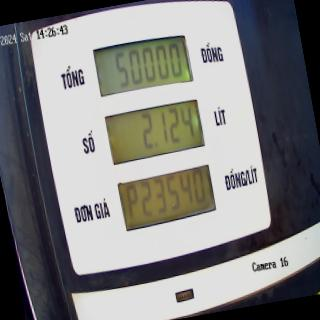screen: (88, 27, 220, 238)
